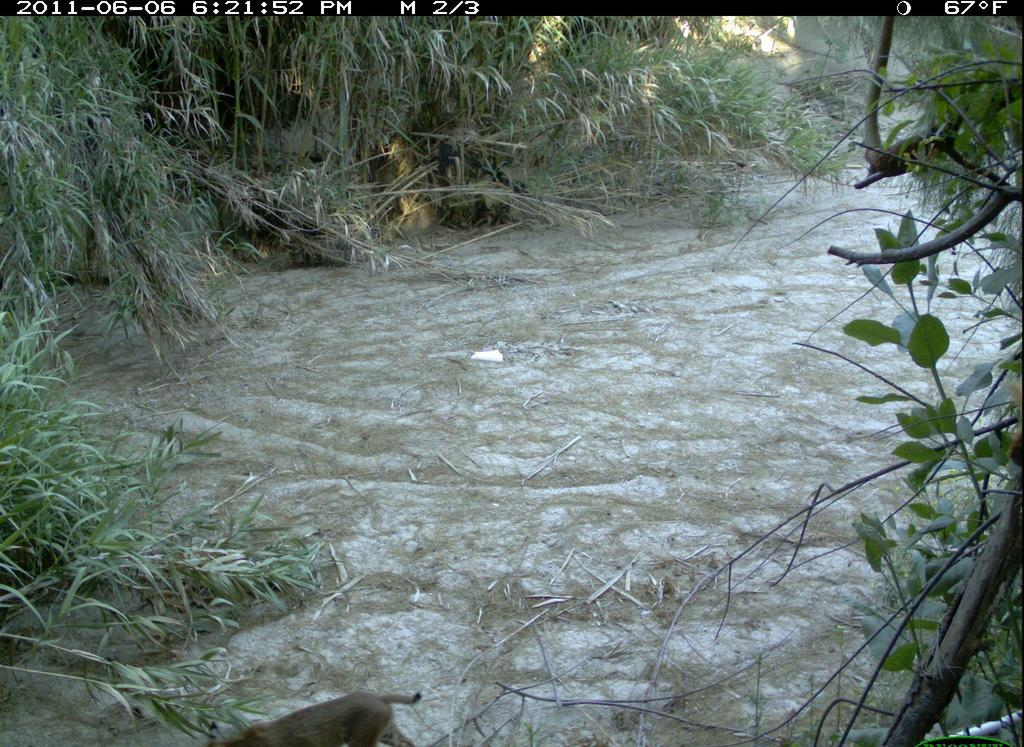bobcat: (193, 678, 440, 747)
